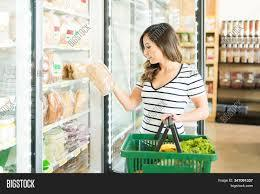with_basket: (118, 117, 217, 172)
without_mask: (140, 23, 180, 67)
